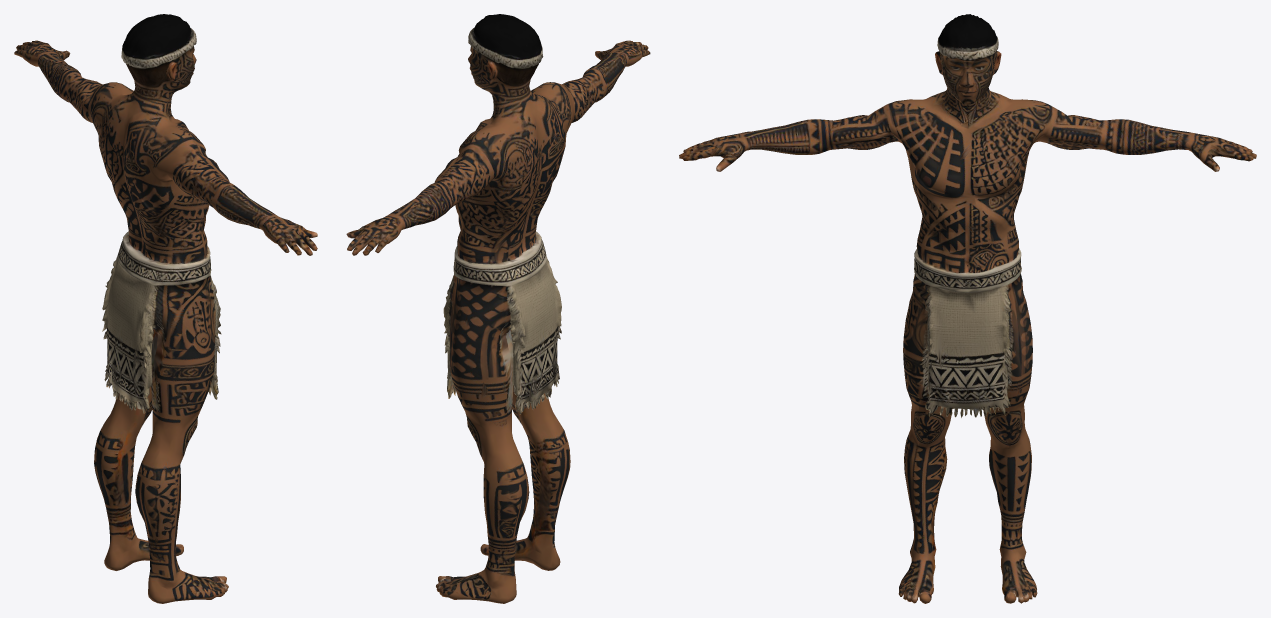
The model's file is FINALTATTOOEDPLAYER1.fbx.
The picture shows the model from 3 angles, left to right: view 1: azimuth 30°, elevation 25°; view 2: azimuth 150°, elevation 25°; view 3: azimuth 270°, elevation 25°; orthographic projection.
Visible parts, largest first — view 1: tripo_node_85f35bd2; view 2: tripo_node_85f35bd2; view 3: tripo_node_85f35bd2.
Boxes of the visible parts, x1,y1,x2,y2 form: tripo_node_85f35bd2: (14,14,317,603); tripo_node_85f35bd2: (346,14,650,603); tripo_node_85f35bd2: (679,14,1256,603).
Bounding box in the file's own units: 0.1615 × 1 × 0.9248.
1 material, 1 textured.
